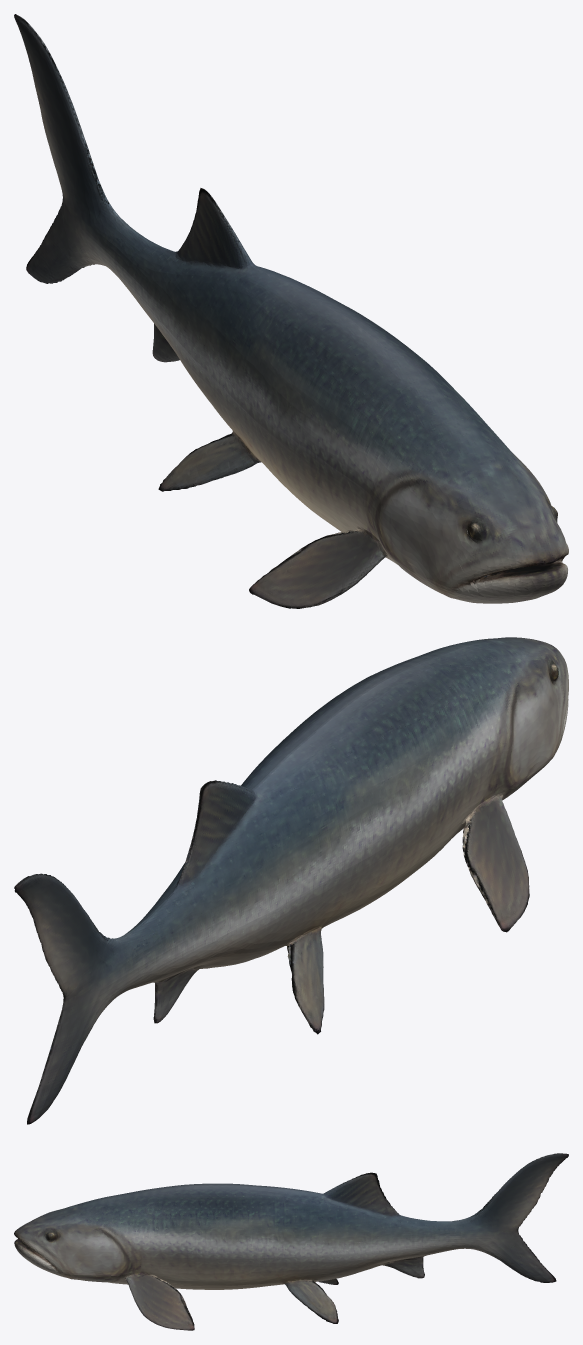
3 renders of one model, top to bottom at view 1: azimuth 30°, elevation 25°; view 2: azimuth 150°, elevation 25°; view 3: azimuth 270°, elevation 25°, orthographic. The views are drawn at different scales.
Visible parts, largest first — view 1: world; view 2: world; view 3: world.
Part boxes in pixels (bbox=[...]): world: bbox=[14, 14, 568, 608]; world: bbox=[14, 637, 568, 1124]; world: bbox=[14, 1153, 568, 1330].
Size of the model in its own units: 0.2757 by 0.3013 by 0.9998.
1 material, 1 textured.
